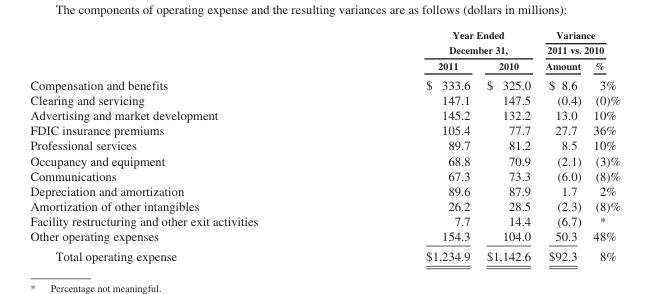table: (29, 28, 619, 263)
table column: (29, 28, 341, 263), (341, 28, 477, 263), (477, 28, 537, 263), (537, 28, 586, 263), (586, 28, 619, 263)
table column header: (29, 28, 619, 74)
table row: (29, 28, 619, 57), (29, 74, 619, 92), (29, 228, 619, 246), (29, 57, 619, 74), (29, 246, 619, 263), (29, 182, 619, 198), (29, 92, 619, 107), (29, 107, 619, 122), (29, 122, 619, 137), (29, 137, 619, 152), (29, 152, 619, 167), (29, 167, 619, 182), (29, 198, 619, 213), (29, 213, 619, 228)
table spanning cell: (341, 28, 537, 57), (537, 28, 619, 57)
